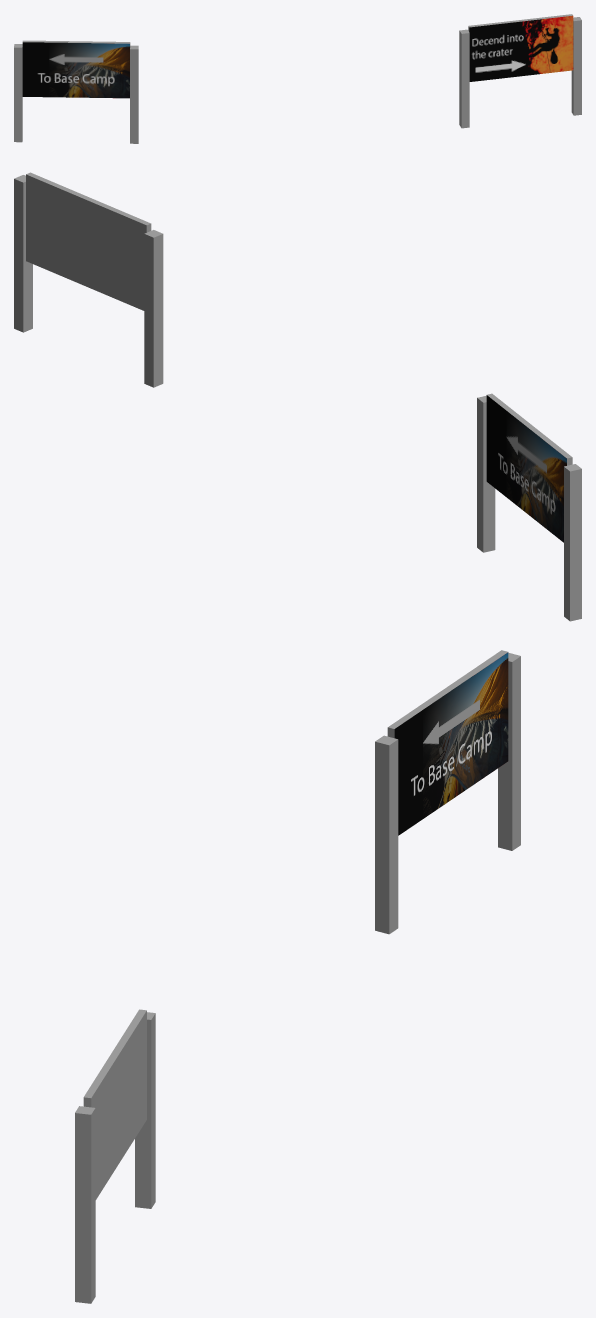
The model's file is Volcano_signpost_GEO.fbx.
The picture shows the model from 3 angles, top to bottom: view 1: azimuth 30°, elevation 25°; view 2: azimuth 150°, elevation 25°; view 3: azimuth 270°, elevation 25°; orthographic projection. The views are drawn at different scales.
Visible parts, largest first — view 1: sign, Volcano:sign, Volcano:Beam1, Volcano:Beam2, Beam2, Beam1; view 2: Volcano:sign, sign, Volcano:Beam1, Beam1, Volcano:Beam2, Beam2; view 3: sign, Volcano:sign, Beam2, Volcano:Beam2, Beam1, Volcano:Beam1.
Part boxes in pixels (x1,y1,x2,y2): sign: [22, 40, 130, 98]; Volcano:sign: [468, 14, 573, 81]; Volcano:Beam1: [459, 29, 469, 128]; Volcano:Beam2: [571, 17, 581, 115]; Beam2: [130, 45, 138, 143]; Beam1: [14, 44, 22, 142]; Volcano:sign: [26, 172, 151, 310]; sign: [486, 393, 572, 542]; Volcano:Beam1: [144, 230, 163, 387]; Beam1: [564, 464, 581, 621]; Volcano:Beam2: [14, 175, 32, 332]; Beam2: [477, 395, 495, 552]; sign: [387, 650, 508, 835]; Volcano:sign: [83, 1009, 146, 1199]; Beam2: [375, 735, 398, 934]; Volcano:Beam2: [75, 1106, 95, 1303]; Beam1: [498, 652, 520, 850]; Volcano:Beam1: [135, 1012, 155, 1208].
Size of the model in its own units: 2230 by 484 by 933.
